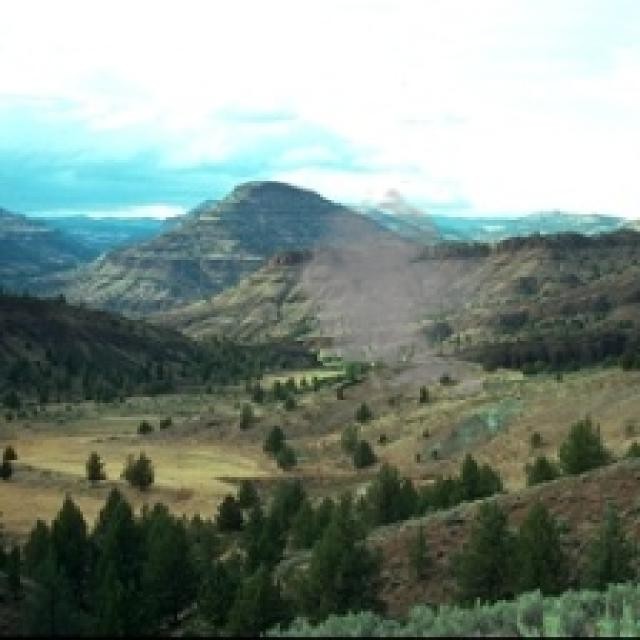smoke: (283, 186, 523, 403)
